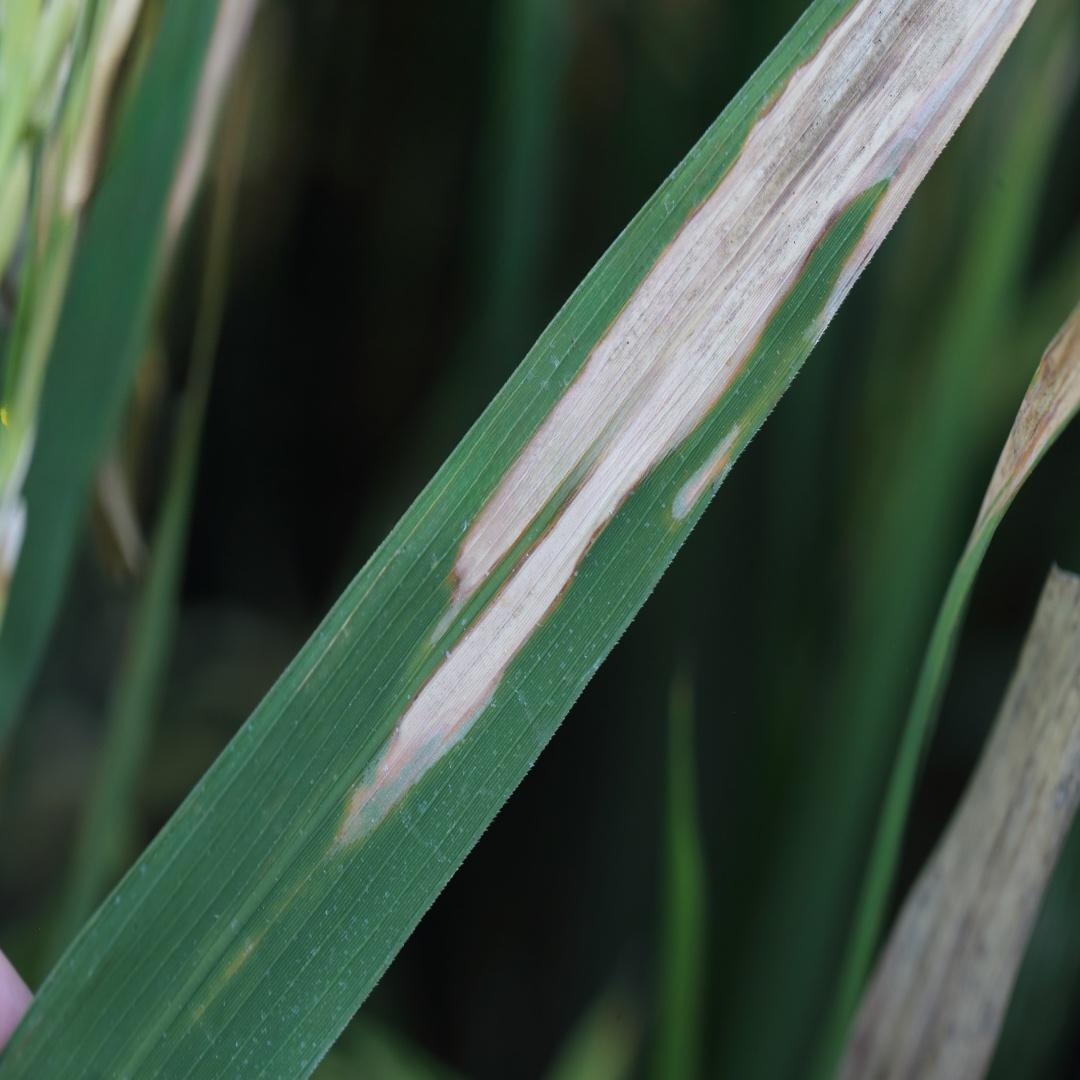BLB: (328, 0, 1031, 854), (670, 421, 745, 519)
LEAF: (0, 0, 1031, 1079)
